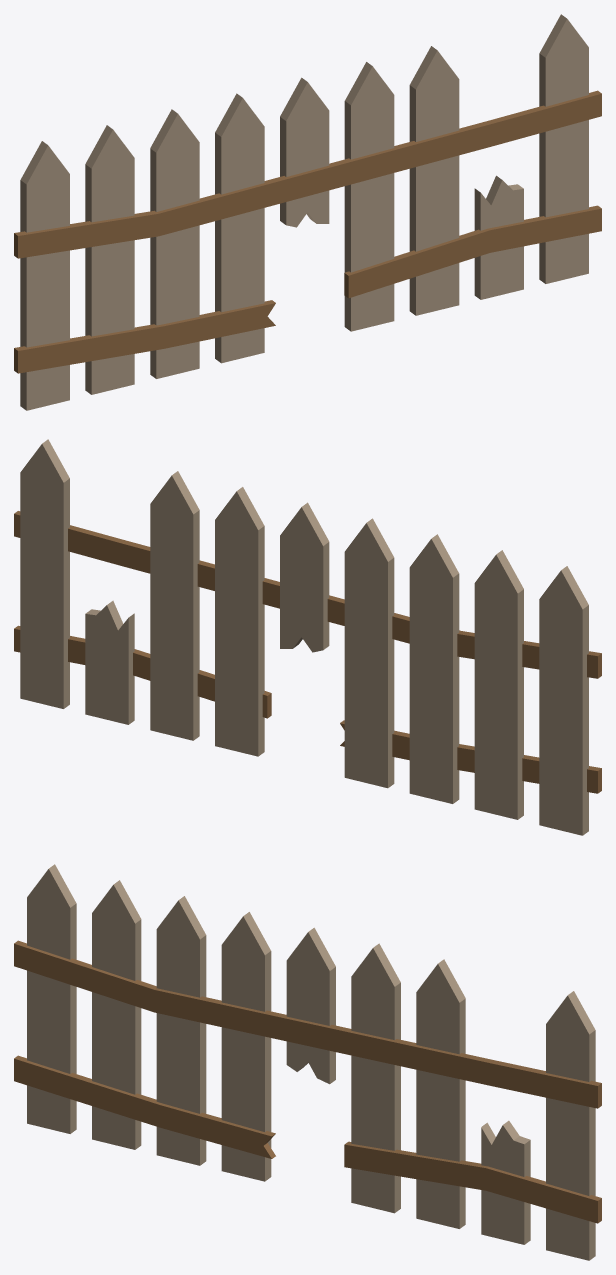
Rendered from Fence_4.fbx.
3 views of the same model, one above another, from view 1: azimuth 30°, elevation 25°; view 2: azimuth 150°, elevation 25°; view 3: azimuth 330°, elevation 25° (orthographic).
Parts seen in each view (by area): view 1: Plane.002; view 2: Plane.002; view 3: Plane.002.
Boxes of the visible parts, x1,y1,x2,y2 form: Plane.002: [14, 14, 601, 410]; Plane.002: [14, 439, 601, 835]; Plane.002: [14, 864, 601, 1260].
Bounding box in the file's own units: 5.4 × 2.3 × 0.1359.
